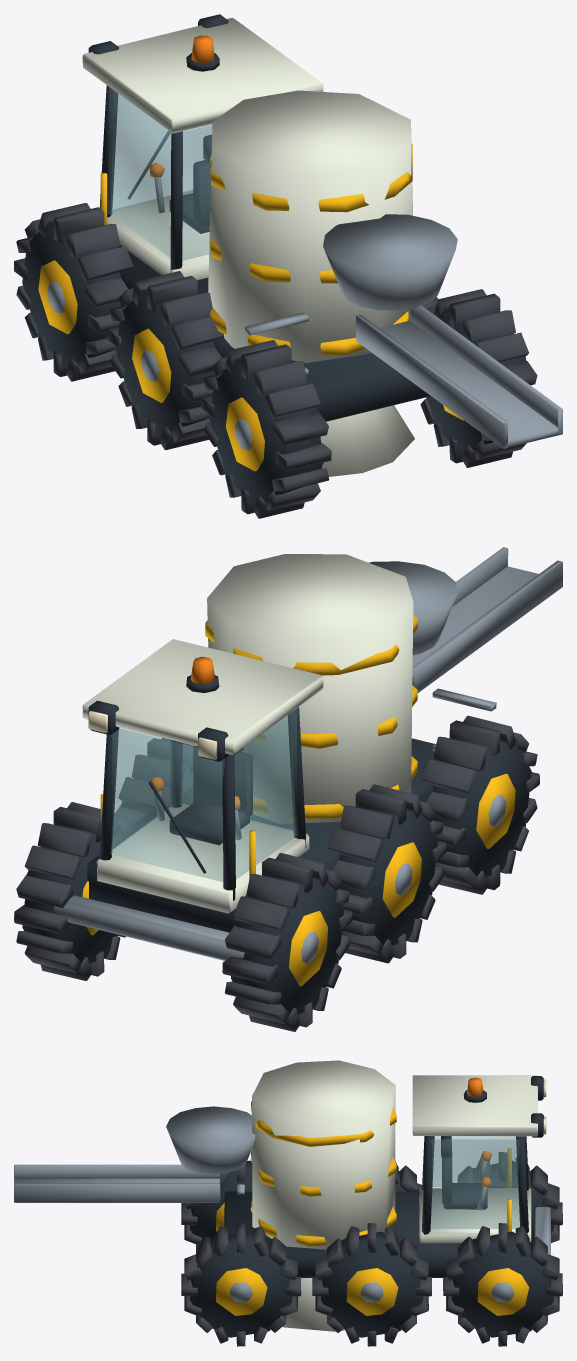
Rendered from mixer-low.glb.
3 renders of one model, top to bottom at view 1: azimuth 30°, elevation 25°; view 2: azimuth 150°, elevation 25°; view 3: azimuth 270°, elevation 25°, orthographic. The views are drawn at different scales.
Visible parts, largest first — view 1: mixing drum, cab sill.005, chute bed, chassis.002, side glazing.008, feed funnel, tread block.192, tread block.160, tread block.176, tread block.240, tire.012, tire.011 (+6 smaller); view 2: mixing drum, cab sill.005, side glazing.008, chassis.002, tread block.160, feed funnel, tread block.208, chute bed, tread block.176, tread block.192, tire.010, tire.011 (+8 smaller); view 3: mixing drum, cab sill.005, chassis.002, side glazing.008, chute bed, feed funnel, tire.015, tire.013, tire.014, tread block.208, tread block.240, tread block.224 (+13 smaller).
Part boxes in pixels (x1,y1,x2,y2): mixing drum: [208, 90, 414, 476]; cab sill.005: [82, 17, 323, 279]; chute bed: [356, 305, 562, 448]; chassis.002: [88, 14, 430, 421]; side glazing.008: [108, 87, 212, 260]; feed funnel: [154, 177, 457, 375]; tread block.192: [201, 340, 331, 518]; tread block.160: [14, 203, 133, 381]; tread block.176: [107, 271, 224, 449]; tread block.240: [420, 289, 537, 467]; tire.012: [209, 362, 323, 505]; tire.011: [116, 294, 214, 436]; mixing drum: [207, 554, 413, 823]; cab sill.005: [82, 639, 323, 913]; side glazing.008: [111, 708, 297, 881]; chassis.002: [87, 700, 435, 932]; tread block.160: [222, 852, 352, 1031]; feed funnel: [54, 561, 496, 960]; tread block.208: [14, 802, 132, 980]; chute bed: [412, 547, 562, 692]; tread block.176: [326, 784, 446, 963]; tread block.192: [420, 715, 539, 894]; tire.010: [231, 875, 344, 1017]; tire.011: [338, 806, 437, 949]; mixing drum: [252, 1060, 395, 1331]; cab sill.005: [412, 1075, 537, 1243]; chassis.002: [224, 1076, 543, 1277]; side glazing.008: [431, 1136, 519, 1228]; chute bed: [14, 1164, 220, 1202]; feed funnel: [166, 1106, 550, 1254]; tire.015: [190, 1231, 291, 1337]; tire.013: [451, 1231, 553, 1337]; tire.014: [321, 1231, 422, 1337]; tread block.208: [443, 1223, 562, 1346]; tread block.240: [181, 1223, 301, 1346]; tread block.224: [312, 1223, 431, 1346].
Bounding box in the file's own units: 2.99 × 3.9 × 7.97.
